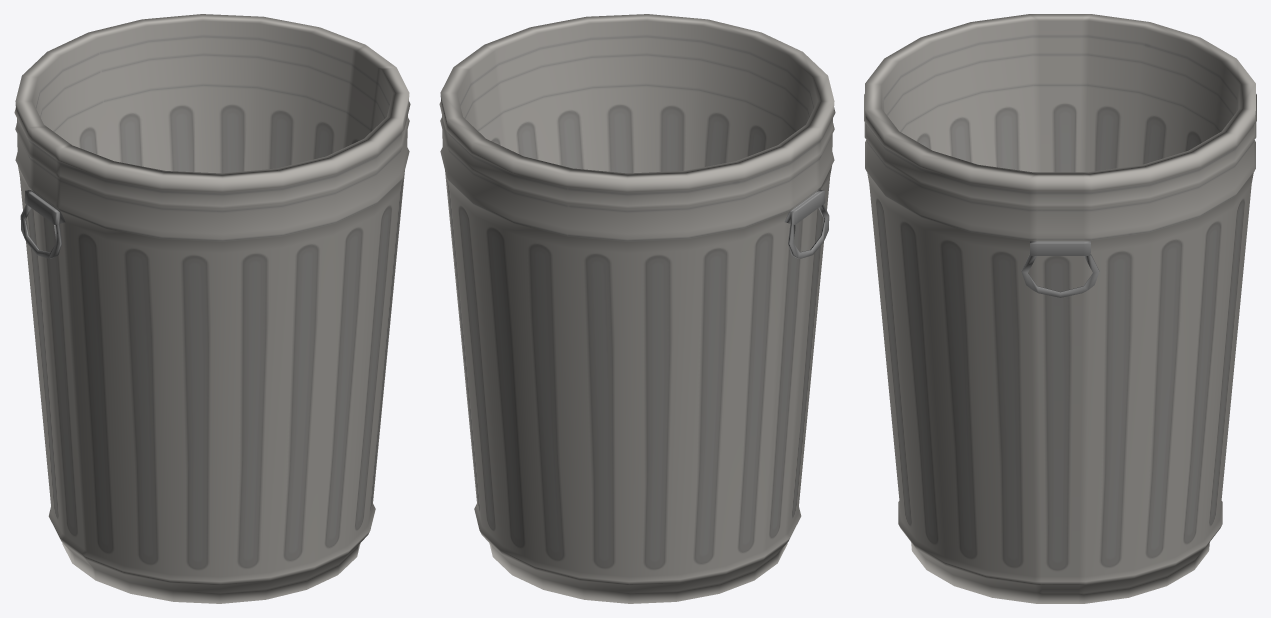
File: Trash_Can_Body_MDL.fbx
3 renders of one model, left to right at view 1: azimuth 30°, elevation 25°; view 2: azimuth 150°, elevation 25°; view 3: azimuth 270°, elevation 25°, orthographic.
Parts seen in each view (by area): view 1: trash_can_body; view 2: trash_can_body; view 3: trash_can_body.
Boxes of the visible parts, x1,y1,x2,y2 form: trash_can_body: (14,14,410,603); trash_can_body: (439,14,835,603); trash_can_body: (864,14,1256,603).
Bounding box in the file's own units: 60.27 × 72.78 × 58.28.
